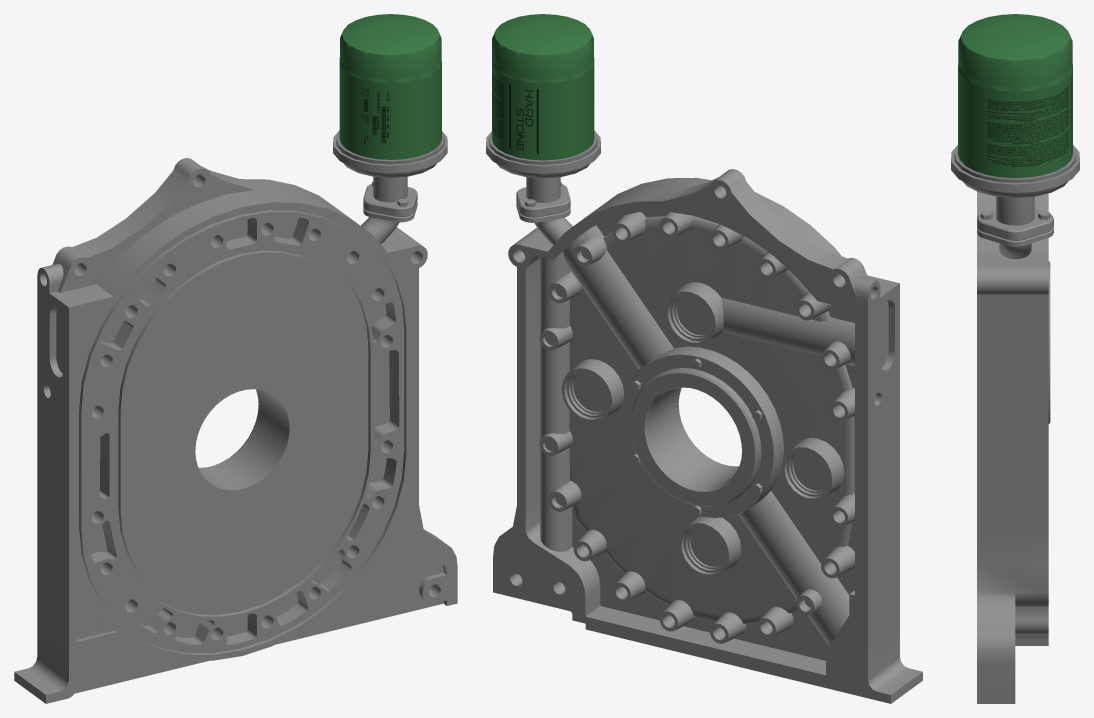
The model's file is endplate.glb.
3 views of the same model, side by side, from view 1: azimuth 30°, elevation 25°; view 2: azimuth 150°, elevation 25°; view 3: azimuth 270°, elevation 25° (orthographic). The views are drawn at different scales.
Visible parts, largest first — view 1: rot_new_blok_tyl(0), rot_filtr_oleju(0); view 2: rot_new_blok_tyl(0), rot_filtr_oleju(0); view 3: rot_new_blok_tyl(0), rot_filtr_oleju(0).
Part boxes in pixels (left/top/right/bottom): rot_new_blok_tyl(0): left=14, top=130, right=457, bottom=703; rot_filtr_oleju(0): left=336, top=14, right=444, bottom=164; rot_new_blok_tyl(0): left=486, top=130, right=922, bottom=703; rot_filtr_oleju(0): left=488, top=14, right=597, bottom=164; rot_new_blok_tyl(0): left=951, top=145, right=1079, bottom=703; rot_filtr_oleju(0): left=954, top=14, right=1076, bottom=183.
Size of the model in its own units: 0.00597 by 0.00795 by 0.00144.
Materials: 2 (1 with a texture image).
